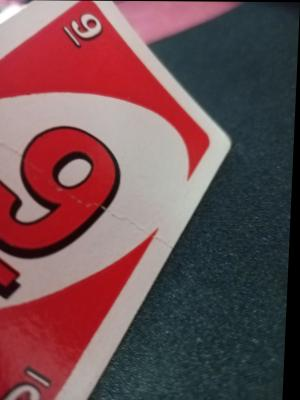num_9: (0, 113, 133, 305), (57, 11, 106, 53)
